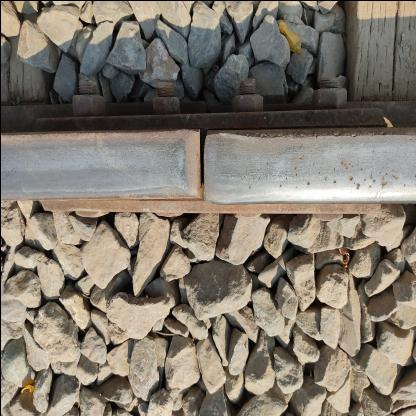Non Defective 2: (168, 100, 234, 209)
Non Defective 3: (20, 60, 388, 145)
